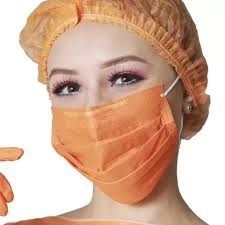with_mask_and_cap: (25, 1, 199, 206)
